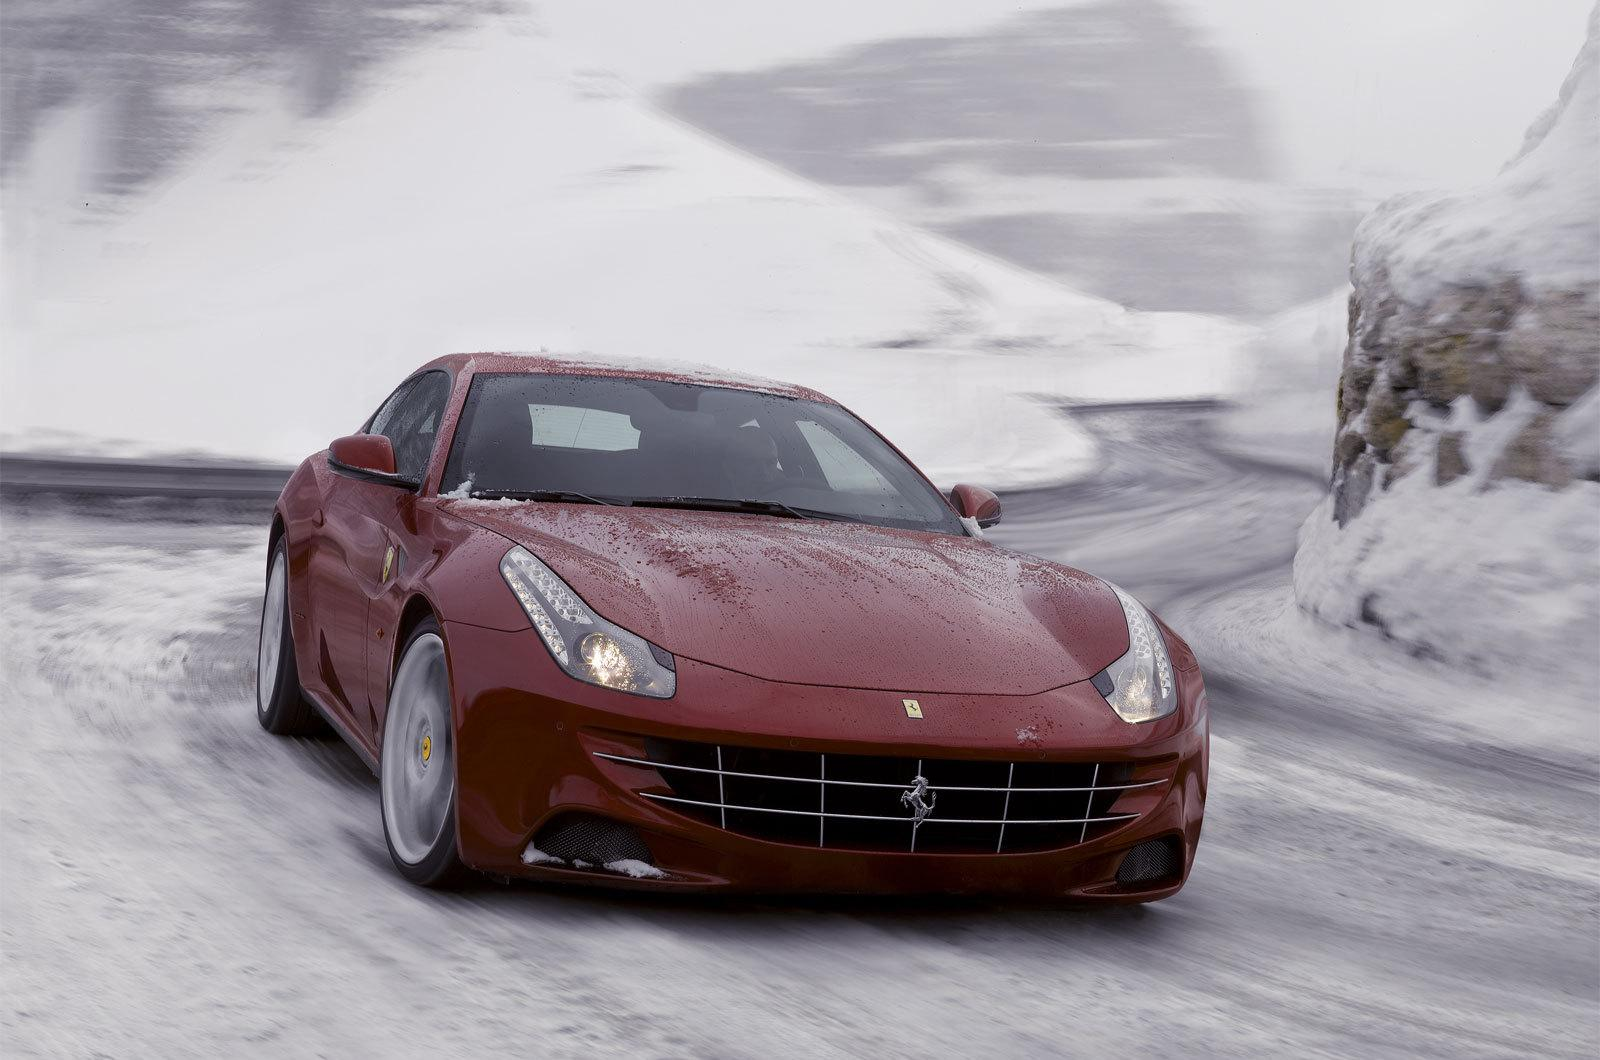car: (240, 351, 1217, 932)
